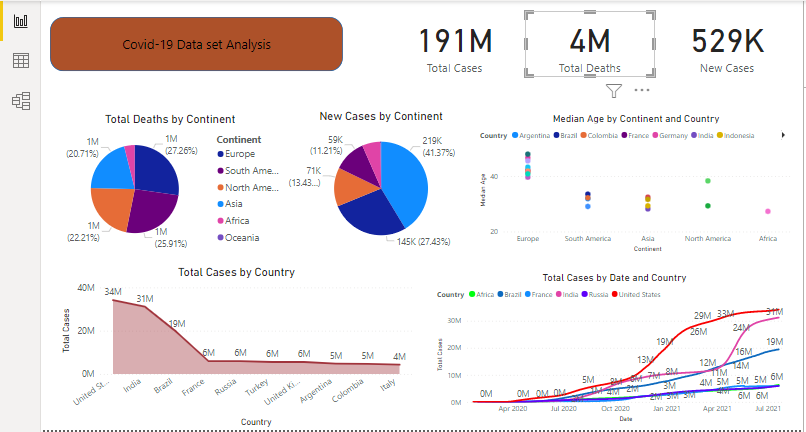

The dashboard page shown, as its layout file describes it:
{"tool":"powerbi","page":{"name":"Page 4","canvas":[1280,720],"ordinal":3},"visuals":[{"type":"pieChart","fields":{"Category":["Covid Final Data.Continent"],"Y":["Sum(Covid Final Data.Total Deaths)"]},"box":[15.1,187.2,403.8,236.9],"z":0,"group":"g1"},{"type":"shape","title":"Covid-19","box":[15.1,26.9,492.2,90.7],"z":0},{"type":"pieChart","fields":{"Category":["Covid Final Data.Continent"],"Y":["Sum(Covid Final Data.New Cases)"]},"box":[409.7,181.4,322.7,245.2],"z":1000,"group":"g1"},{"type":"card","fields":{"Values":["Sum(Covid Final Data.New Cases)"]},"box":[1053.2,16.8,198.2,110.9],"z":1000},{"type":"card","fields":{"Values":["Sum(Covid Final Data.Total Cases)"]},"box":[589.6,16.8,210,110.9],"z":2000},{"type":"card","fields":{"Values":["Sum(Covid Final Data.Total Deaths)"]},"box":[813,16.8,218.4,110.9],"z":3000},{"type":"group","id":"g1","title":"Group 1","box":[15.1,181.4,717.3,245.2],"z":4000},{"type":"areaChart","fields":{"Category":["Covid Final Data.Country"],"Y":["Sum(Covid Final Data.Total Cases)"]},"box":[28.6,443.5,599.7,277.2],"z":5000},{"type":"lineChart","fields":{"Category":["Covid Final Data.Continent"],"Series":["Covid Final Data.Country"],"Y":["Sum(Covid Final Data.Median Age)"]},"box":[732.4,186.5,534.2,240.2],"z":6000},{"type":"lineChart","fields":{"Series":["Trend of Daily Cases.Country"],"Y":["Sum(Trend of Daily Cases.Total Cases)"],"Category":["Trend of Daily Cases.Date"]},"box":[660.2,453.5,606.4,258.7],"z":7000}]}

Visuals, with their boxes on the page's 1280x720 design canvas (x1, y1, x2, y2). These are canvas units, not pixel positions in the 806x432 screenshot, which may show the page scaled, cropped or inside an application window:
pieChart - Covid Final Data.Continent x Sum(Covid Final Data.Total Deaths): (15,187,419,424)
"Covid-19" shape: (15,27,507,118)
pieChart - Covid Final Data.Continent x Sum(Covid Final Data.New Cases): (410,181,732,427)
card - Sum(Covid Final Data.New Cases): (1053,17,1251,128)
card - Sum(Covid Final Data.Total Cases): (590,17,800,128)
card - Sum(Covid Final Data.Total Deaths): (813,17,1031,128)
"Group 1" group: (15,181,732,427)
areaChart - Covid Final Data.Country x Sum(Covid Final Data.Total Cases): (29,444,628,721)
lineChart - Covid Final Data.Continent x Covid Final Data.Country: (732,186,1267,427)
lineChart - Trend of Daily Cases.Country x Sum(Trend of Daily Cases.Total Cases): (660,454,1267,712)
